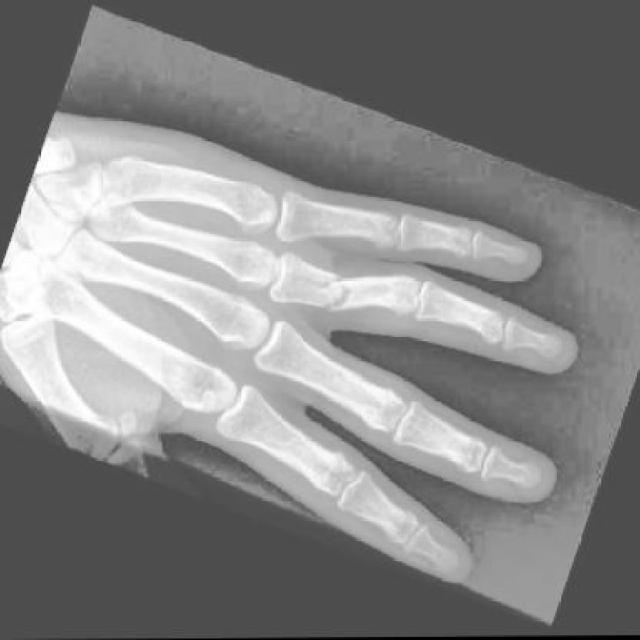Fracture: (291, 263, 357, 321)
